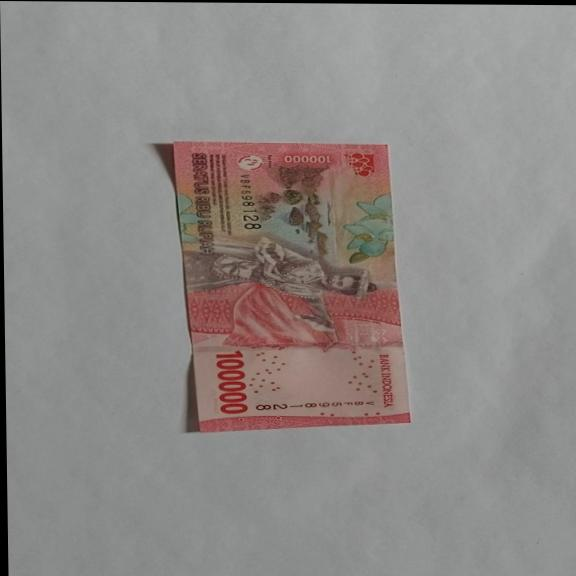Kertas: (157, 140, 411, 434), (213, 349, 249, 414)
